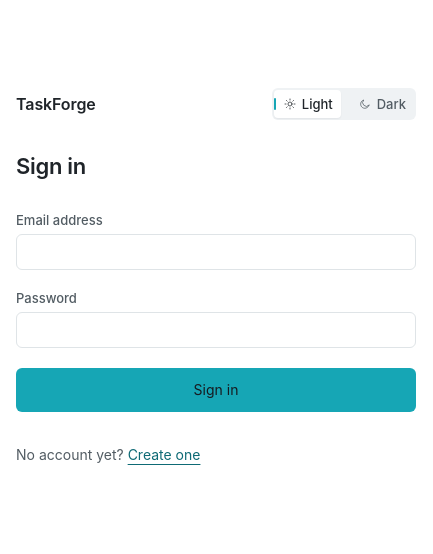
Test: J-01 registration and sign-in › reports every empty required field on submit (AC-AUTH-03)
Expected: the heading "Sign in" is shown, [16,152,86,178]
Click the link "Create one": click(164, 454) [128,446,200,462]
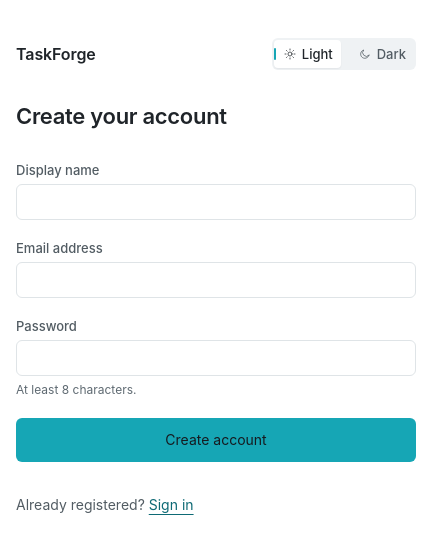
Click the button "Create account": click(216, 440) [16,418,416,462]
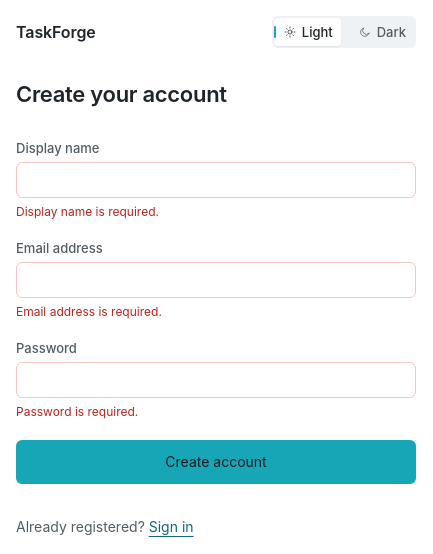
Expected: the text "Email address is required." is shown, [16,304,162,318]
Expected: the text "Password is required." is shown, [16,404,138,418]
Expected: the text "Display name is required." is shown, [16,204,159,218]
